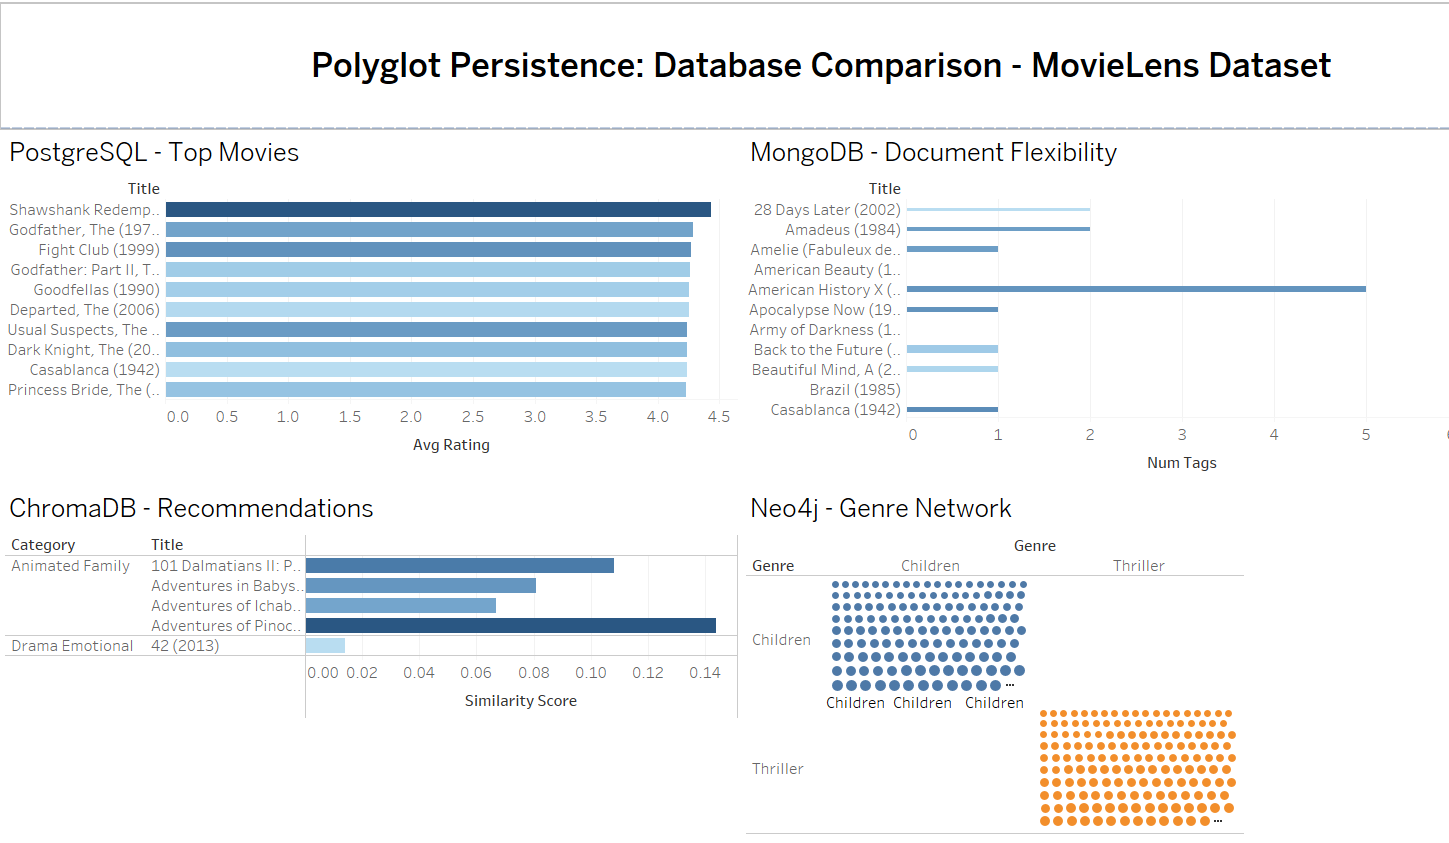

This screenshot's page, from the dashboard's own definition file:
{"tool":"tableau","page":{"name":"Dashboard 1","canvas":[1000,1000],"units":"permille","ordinal":0},"visuals":[{"type":"text","box":[4.8,9.4,990.3,145.7]},{"type":"worksheet","title":"Sheet 1","mark":"Automatic","rows":["title"],"cols":["avg_rating"],"box":[4.8,155.1,446.9,417.8]},{"type":"worksheet","title":"Sheet 2","mark":"Automatic","rows":["title"],"cols":["num_tags"],"box":[451.7,155.1,446.9,417.8]},{"type":"legend","title":"Sheet 1","param":"[federated.0bqlq151umfp5a1dby7dz05carb1].[sum:num_ratings:qk]","box":[898.6,155.1,96.6,85.8]},{"type":"legend","title":"Sheet 2","param":"[federated.0oey16r0qvtos014thfoe1sye66n].[sum:avg_rating:qk]","box":[898.6,240.9,96.6,85.8]},{"type":"legend","title":"Sheet 2","param":"[federated.0oey16r0qvtos014thfoe1sye66n].[sum:num_ratings:qk]","box":[898.6,326.7,96.6,164.5]},{"type":"filter","title":"Sheet 3","param":"[federated.1dfzmul0q6jg5x16spveq18ivm3a].[none:title:nk]","box":[898.6,491.2,96.6,164.5]},{"type":"worksheet","title":"Sheet 3","mark":"Automatic","rows":["category","title"],"cols":["similarity_score"],"box":[4.8,572.9,446.9,417.7]},{"type":"worksheet","title":"Sheet 4","mark":"Circle","rows":["genre"],"cols":["genre"],"box":[451.7,572.9,446.9,417.7]},{"type":"legend","title":"Sheet 3","param":"[federated.1dfzmul0q6jg5x16spveq18ivm3a].[sum:similarity_score:qk]","box":[898.6,655.7,96.6,85.8]},{"type":"legend","title":"Sheet 4","param":"[federated.14kt7fa08bsgik13ulq1g0tc12ox].[none:movie:nk]","box":[898.6,741.5,96.6,164.5]},{"type":"legend","title":"Sheet 4","param":"[federated.14kt7fa08bsgik13ulq1g0tc12ox].[none:genre:nk]","box":[898.6,906,96.6,84.6]}]}

Visuals, with their boxes on the dashboard's canvas, which has no fixed pixel size, in thousandths of its width and height (x1, y1, x2, y2). These are canvas units, not pixel positions in the 1449x843 screenshot, which may show the page scaled, cropped or inside an application window:
text: 5:9:995:155
"Sheet 1" worksheet: 5:155:452:573
"Sheet 2" worksheet: 452:155:899:573
"Sheet 1" legend: 899:155:995:241
"Sheet 2" legend: 899:241:995:327
"Sheet 2" legend: 899:327:995:491
"Sheet 3" filter: 899:491:995:656
"Sheet 3" worksheet: 5:573:452:991
"Sheet 4" worksheet (Circle marks): 452:573:899:991
"Sheet 3" legend: 899:656:995:742
"Sheet 4" legend: 899:742:995:906
"Sheet 4" legend: 899:906:995:991
